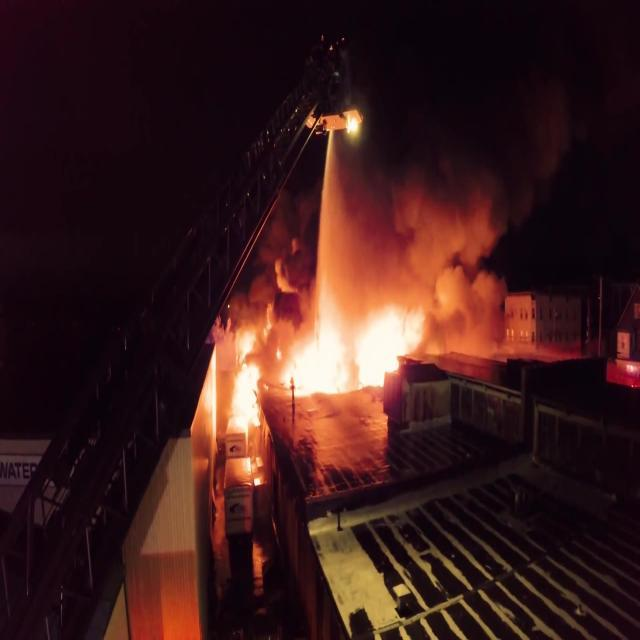Fire: (209, 292, 428, 452)
Smoke: (384, 92, 574, 304)
